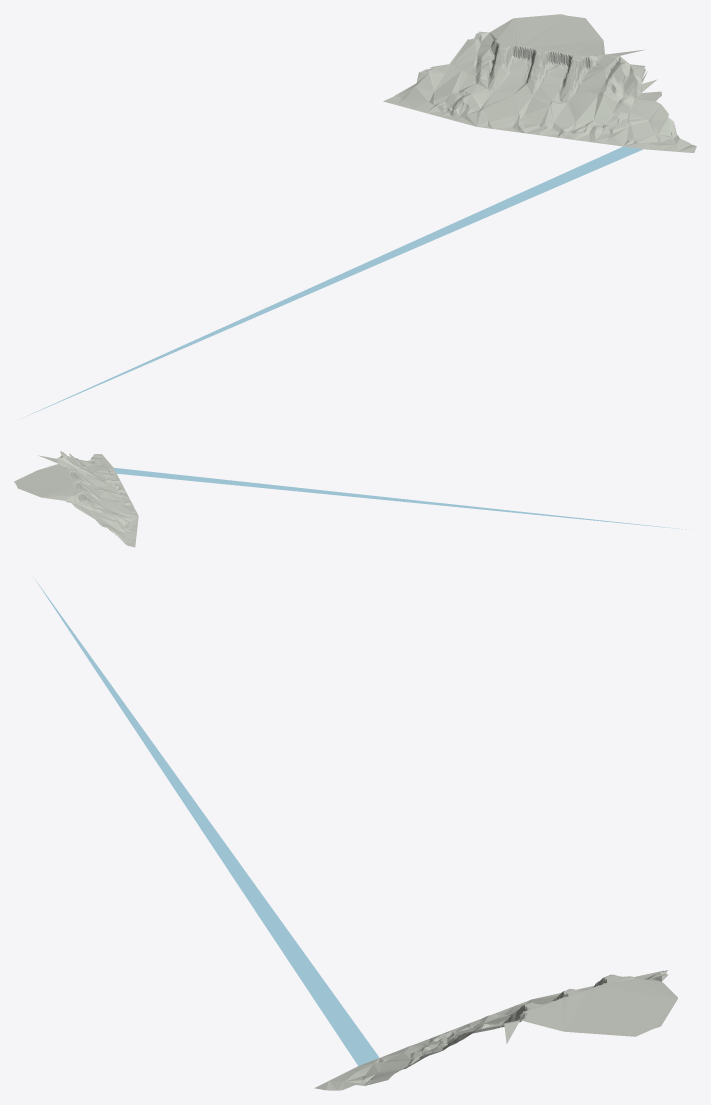
The model's file is terrain-context-C-x0-z-1.glb.
3 renders of one model, top to bottom at view 1: azimuth 30°, elevation 25°; view 2: azimuth 150°, elevation 25°; view 3: azimuth 270°, elevation 25°, orthographic. The views are drawn at different scales.
Parts seen in each view (by area): view 1: C-x0-z-1; view 2: C-x0-z-1; view 3: C-x0-z-1.
Boxes of the visible parts, box(x1,y1,x2,y2) form: C-x0-z-1: box(23, 14, 696, 417); C-x0-z-1: box(14, 451, 688, 547); C-x0-z-1: box(34, 578, 677, 1090).
Size of the model in its own units: 274 by 14.81 by 141.
